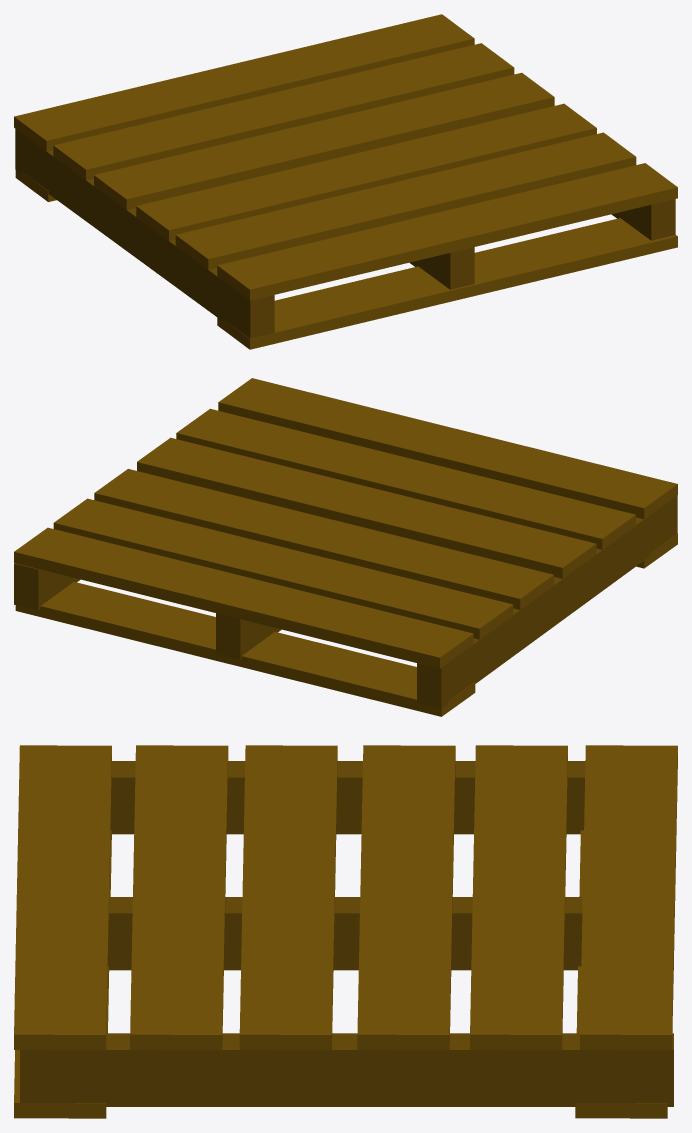
The model's file is woodenPalletLight.fbx.
3 renders of one model, top to bottom at view 1: azimuth 30°, elevation 25°; view 2: azimuth 150°, elevation 25°; view 3: azimuth 270°, elevation 25°, orthographic. The views are drawn at different scales.
Parts seen in each view (by area): view 1: pCube27; view 2: pCube27; view 3: pCube27.
Part boxes in pixels (x1,y1,x2,y2): pCube27: (14, 14, 677, 349); pCube27: (14, 378, 677, 716); pCube27: (14, 745, 677, 1118).
Size of the model in its own units: 3.59 by 0.4832 by 3.48.
